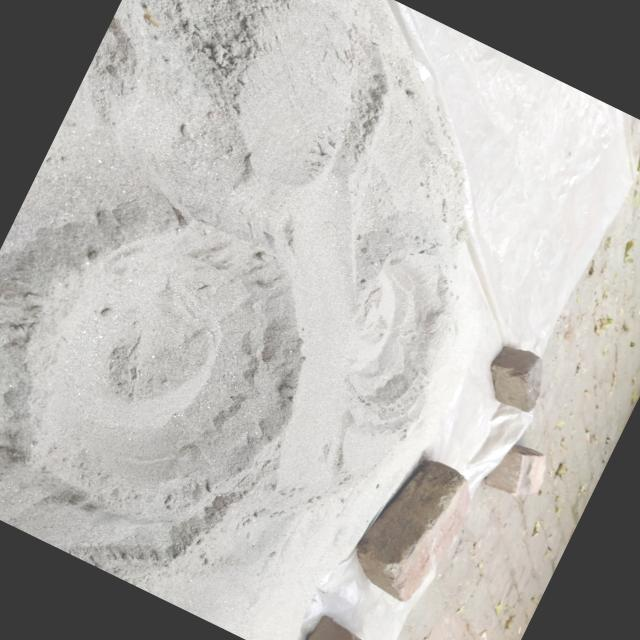C20: (0, 202, 301, 521), (347, 251, 445, 407)
